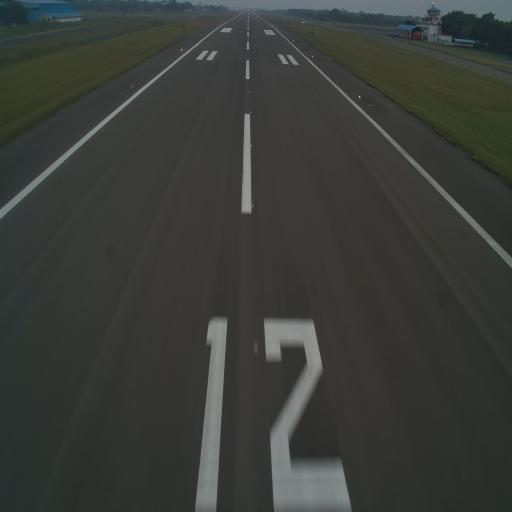on: (248, 108, 253, 118), (130, 81, 135, 90), (251, 200, 255, 211), (249, 141, 254, 149), (358, 92, 362, 100), (248, 89, 252, 96), (311, 54, 314, 60), (248, 64, 251, 70), (180, 47, 183, 52), (249, 74, 251, 80)
